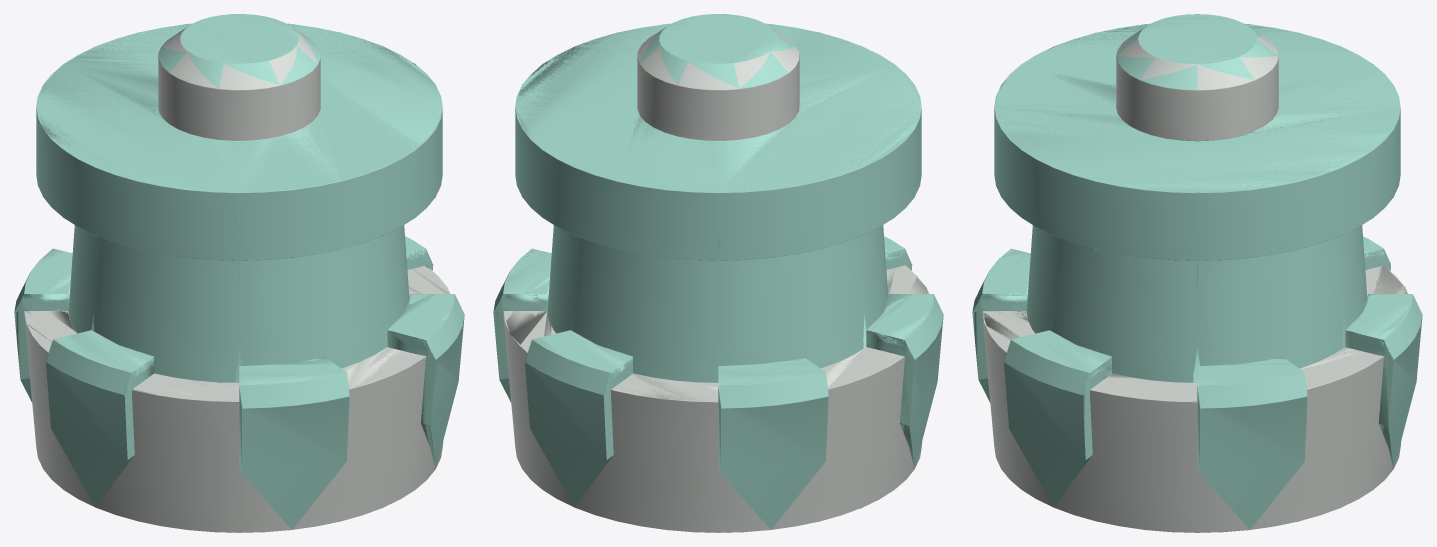
File: tower-defense-kit__tower-round-middle-a.glb
3 views of the same model, side by side, from view 1: azimuth 30°, elevation 25°; view 2: azimuth 150°, elevation 25°; view 3: azimuth 270°, elevation 25° (orthographic).
Visible parts, largest first — view 1: L0_accent, L0_metal, L1_accent, L1_metal; view 2: L0_accent, L0_metal, L1_accent, L1_metal; view 3: L0_accent, L0_metal, L1_accent, L1_metal.
Boxes of the visible parts, bbox=[...] form: L0_accent: bbox=[14, 14, 464, 502]; L0_metal: bbox=[24, 27, 450, 532]; L1_accent: bbox=[14, 14, 463, 529]; L1_metal: bbox=[24, 42, 448, 532]; L0_accent: bbox=[493, 14, 943, 490]; L0_metal: bbox=[503, 27, 929, 532]; L1_accent: bbox=[493, 14, 942, 529]; L1_metal: bbox=[503, 51, 928, 532]; L0_accent: bbox=[972, 14, 1422, 506]; L0_metal: bbox=[982, 29, 1408, 532]; L1_accent: bbox=[972, 14, 1419, 529]; L1_metal: bbox=[982, 48, 1407, 532].
Size of the model in its own units: 1 by 1 by 1.
